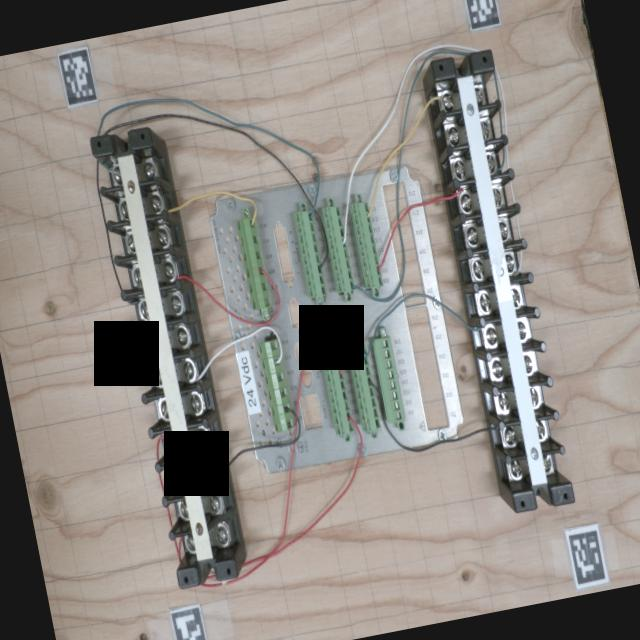Flathead_Block: (90, 127, 239, 588)
Phillips_Block: (432, 50, 576, 513)
Terminal_1: (258, 339, 295, 433), (236, 216, 271, 311)
Terminal_2: (347, 344, 381, 433), (350, 201, 384, 289), (321, 348, 355, 436), (294, 209, 327, 298), (322, 205, 355, 293)
